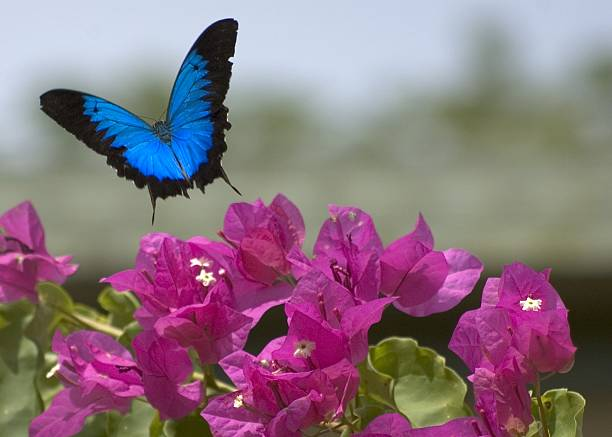Butterfly: (38, 18, 246, 224)
